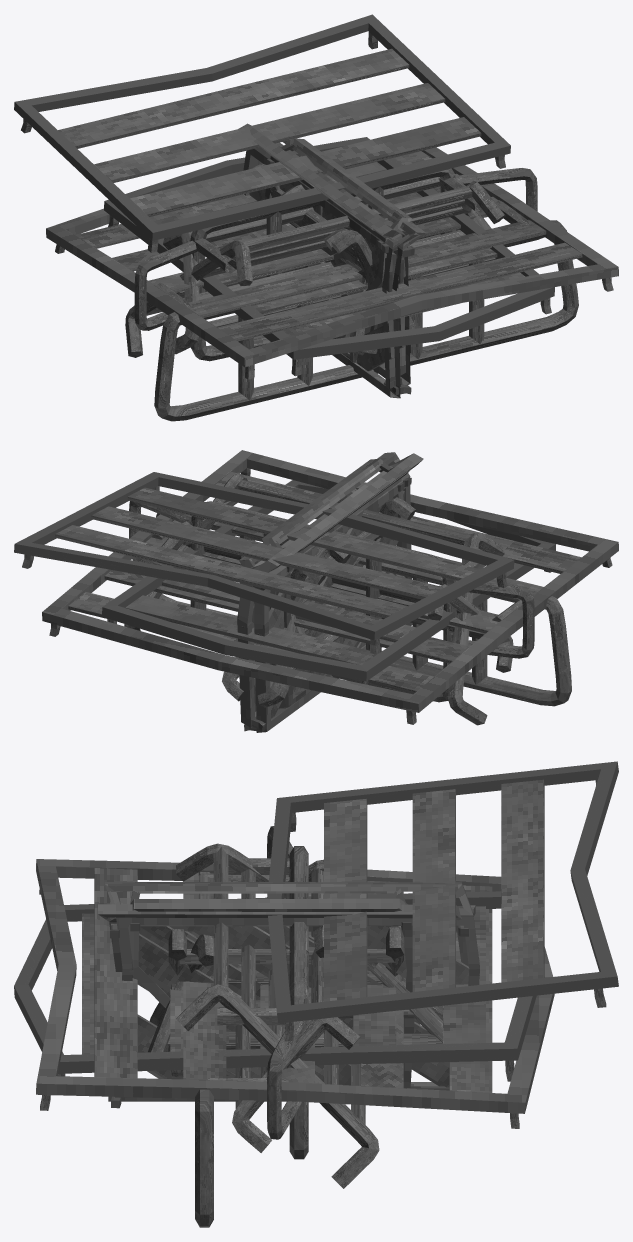
Rendered from Vehicles_CarNormal_Light_o.fbx.
3 views of the same model, one above another, from view 1: azimuth 30°, elevation 25°; view 2: azimuth 150°, elevation 25°; view 3: azimuth 270°, elevation 25° (orthographic). The views are drawn at different scales.
Parts seen in each view (by area): view 1: normal_light_trunk_armor, normal_light_hood_armor, normal_light_roofrack, normal_light_windshield_armor, normal_light_bullbar_armor, normal_light_front_left_door_armor, normal_light_rear_windshield_armor, normal_light_front_right_door_armor, normal_light_rear_left_door_armor, normal_light_front_right_window_armor, normal_light_rear_right_window_armor; view 2: normal_light_trunk_armor, normal_light_hood_armor, normal_light_roofrack, normal_light_bullbar_armor, normal_light_front_left_door_armor, normal_light_windshield_armor, normal_light_front_right_door_armor, normal_light_rear_left_door_armor, normal_light_rear_windshield_armor, normal_light_front_right_window_armor, normal_light_front_left_window_armor, normal_light_rear_right_window_armor (+1 smaller); view 3: normal_light_trunk_armor, normal_light_hood_armor, normal_light_roofrack, normal_light_front_right_door_armor, normal_light_windshield_armor, normal_light_bullbar_armor, normal_light_rear_right_door_armor, normal_light_rear_windshield_armor, normal_light_front_left_door_armor, normal_light_rear_left_door_armor, normal_light_front_right_window_armor, normal_light_rear_left_window_armor (+2 smaller).
Part boxes in pixels (x1,y1,x2,y2): normal_light_trunk_armor: [14, 14, 578, 421]; normal_light_hood_armor: [46, 147, 618, 379]; normal_light_roofrack: [104, 137, 554, 376]; normal_light_windshield_armor: [125, 180, 505, 357]; normal_light_bullbar_armor: [134, 168, 537, 361]; normal_light_front_left_door_armor: [243, 138, 426, 398]; normal_light_rear_windshield_armor: [163, 177, 495, 354]; normal_light_front_right_door_armor: [238, 123, 410, 388]; normal_light_rear_left_door_armor: [265, 138, 411, 362]; normal_light_front_right_window_armor: [280, 184, 372, 270]; normal_light_rear_right_window_armor: [253, 163, 414, 329]; normal_light_trunk_armor: [14, 472, 571, 706]; normal_light_hood_armor: [42, 450, 618, 724]; normal_light_roofrack: [102, 480, 555, 684]; normal_light_bullbar_armor: [129, 500, 534, 702]; normal_light_front_left_door_armor: [239, 452, 412, 732]; normal_light_windshield_armor: [124, 472, 504, 725]; normal_light_front_right_door_armor: [237, 453, 423, 731]; normal_light_rear_left_door_armor: [262, 458, 404, 708]; normal_light_rear_windshield_armor: [161, 521, 513, 672]; normal_light_front_right_window_armor: [222, 497, 415, 701]; normal_light_front_left_window_armor: [257, 488, 394, 707]; normal_light_rear_right_window_armor: [290, 512, 381, 600]; normal_light_trunk_armor: [195, 761, 618, 1227]; normal_light_hood_armor: [36, 859, 554, 1128]; normal_light_roofrack: [14, 891, 536, 1081]; normal_light_front_right_door_armor: [104, 882, 479, 1097]; normal_light_windshield_armor: [176, 843, 379, 1188]; normal_light_bullbar_armor: [217, 826, 308, 1159]; normal_light_rear_right_door_armor: [128, 888, 414, 1088]; normal_light_rear_windshield_armor: [232, 859, 359, 1152]; normal_light_front_left_door_armor: [98, 904, 468, 1108]; normal_light_rear_left_door_armor: [130, 898, 411, 981]; normal_light_front_right_window_armor: [168, 962, 442, 1077]; normal_light_rear_left_window_armor: [149, 927, 404, 1025].
Size of the model in its own units: 0.9158 by 0.4057 by 0.9264.
